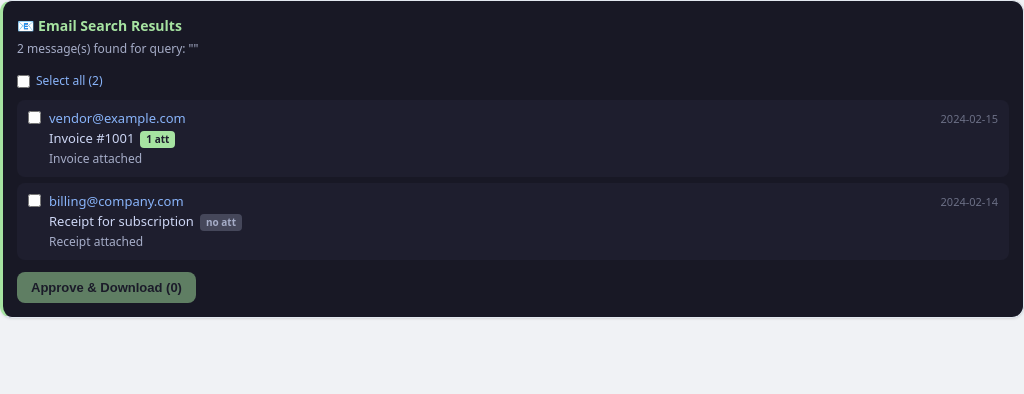
Test case: EmailSearchPreviewCard › renders attachment details on expand
What coordinates should you click on to do the following:
click the text "Invoice #1001"
I would click on:
 (112, 138)
Its box is [49, 128, 175, 148].
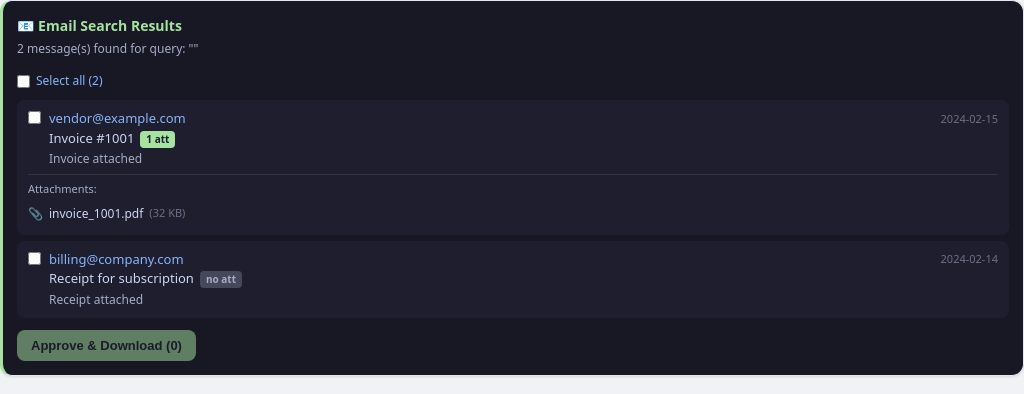
Result: the text "invoice_1001.pdf" is shown at [49, 204, 143, 222]
